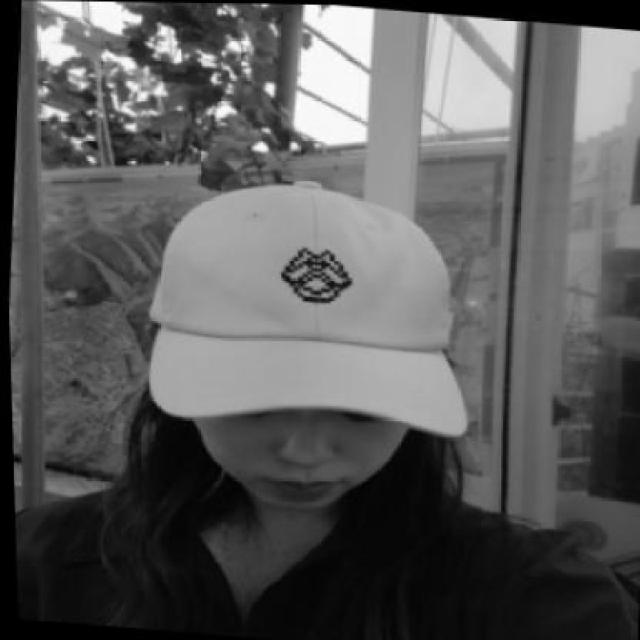hat: (123, 154, 491, 448)
